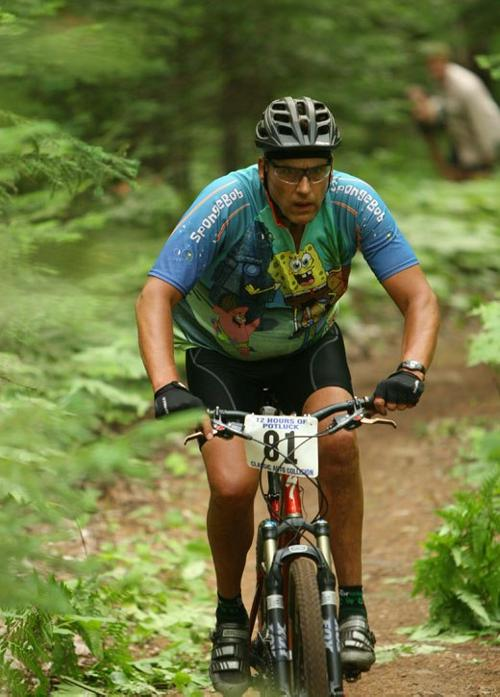person: (137, 97, 442, 695)
